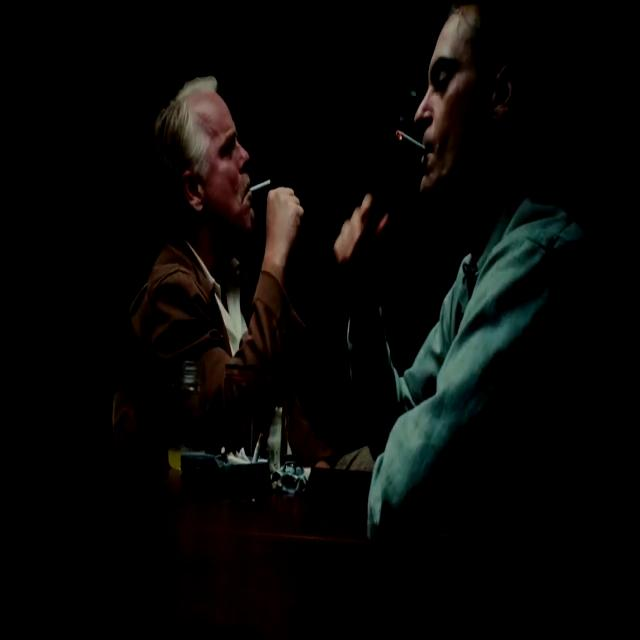Smooking: (392, 123, 427, 162), (246, 171, 272, 195)
